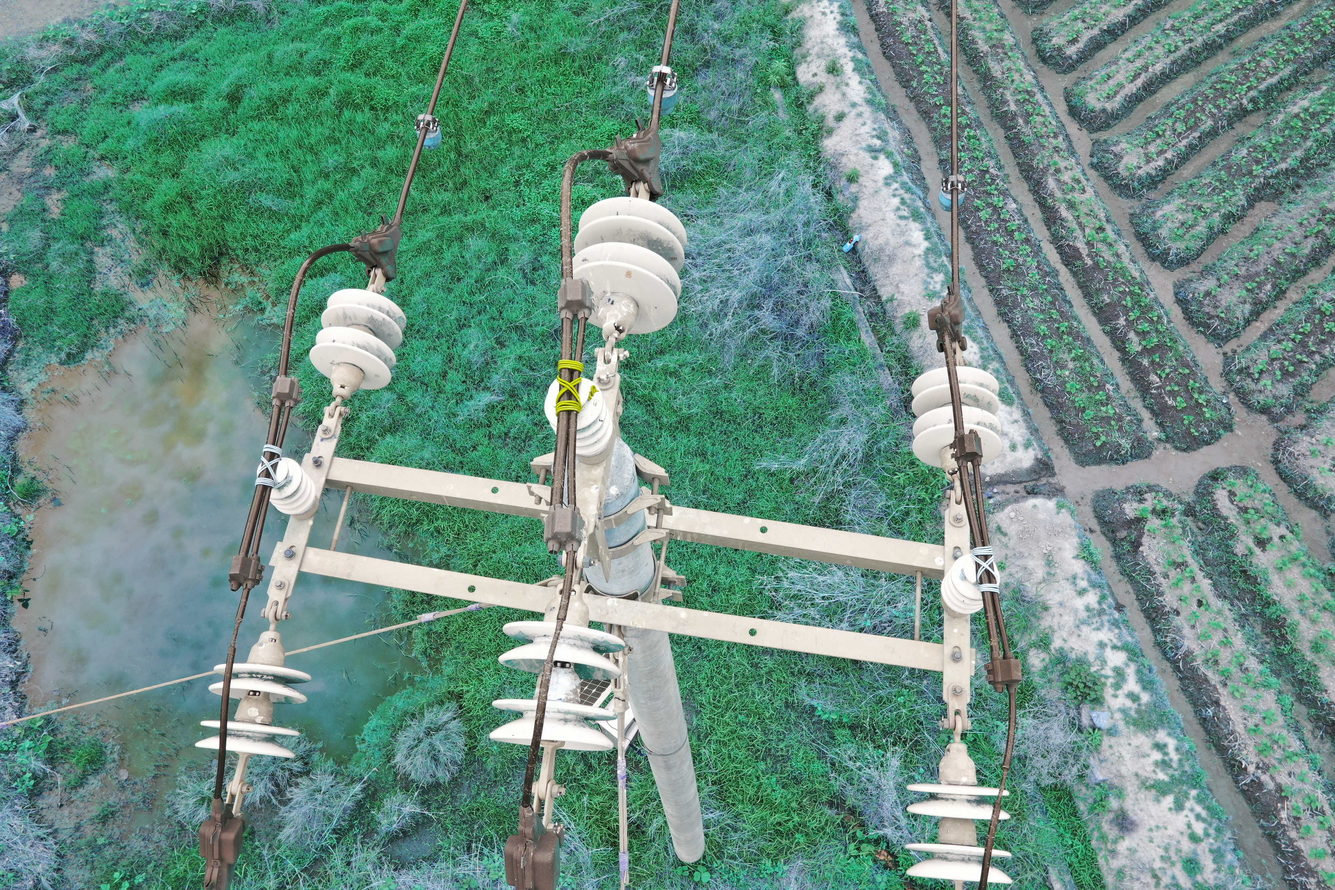severe_soiling_no_discharge_whole: (479, 584, 634, 759), (566, 193, 691, 343), (195, 630, 312, 767), (901, 748, 1018, 882), (308, 290, 413, 395), (906, 361, 1002, 473), (541, 376, 619, 466), (260, 455, 322, 517)
